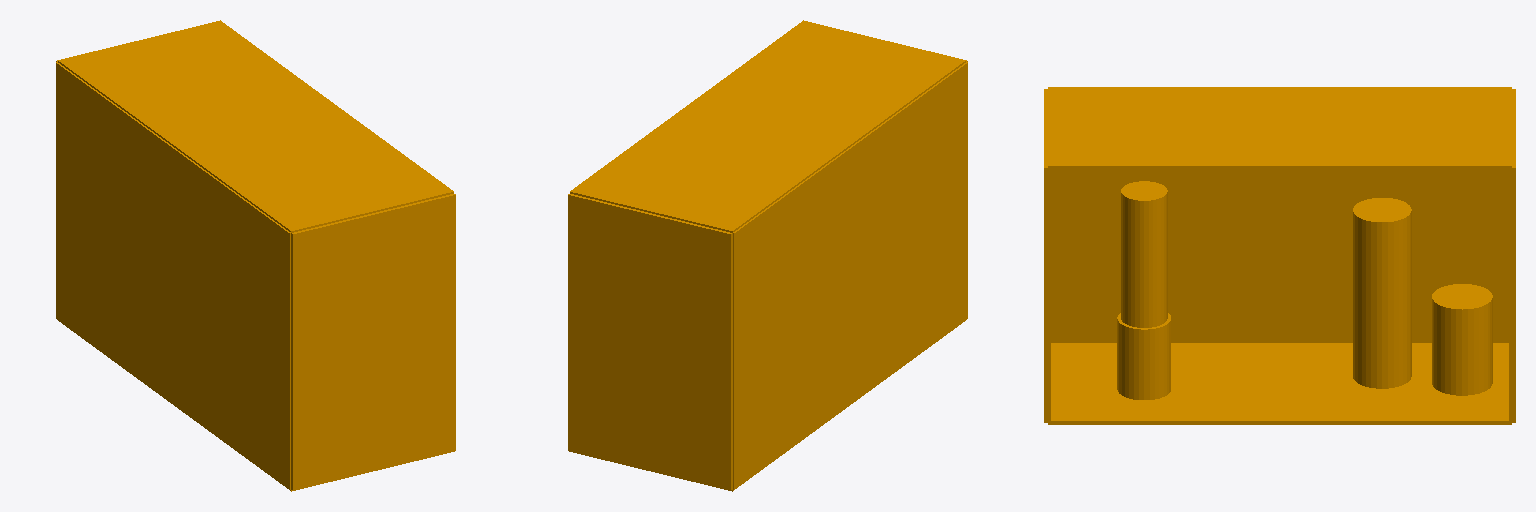
The robot description file, URDF, robot "syn_can_cabinet_309":
<?xml version="1.0" ?>
<robot name="syn_can_cabinet_309">
    <link concave="yes" name="base_link">
        <inertial>
            <origin rpy="0 0 0" xyz="0 0 0"/>
            <mass value="0.0"/>
            <inertia ixx="1e-08" ixy="0" ixz="0" iyy="1e-08" iyz="0" izz="1e-08"/>
        </inertial>
        <visual>
            <origin xyz="0 0 0" rpy="0 0 0" />
            <geometry>
                <mesh filename="syn_can_cabinet_309.obj" scale="1.000000 1.000000 1.000000"/>
            </geometry>         
        </visual>

        <collision concave="yes">
            <origin xyz="0 0 0" rpy="0 0 0"/>
            <geometry>
                <mesh filename="syn_can_cabinet_309.obj" scale="1.000000 1.000000 1.000000"/>
            </geometry>
        </collision>
    </link>
</robot>
    

--- Facts derived from the render (not from the file) ---
Views: 3 orthographic renders of the robot side by side, from view 1: azimuth 30°, elevation 25°; view 2: azimuth 150°, elevation 25°; view 3: azimuth 270°, elevation 25°.
Robot: syn_can_cabinet_309 — 1 links, 0 joints (none); root link base_link; default pose: all joints at 0.
Links seen in each view (by area): view 1: base_link; view 2: base_link; view 3: base_link.
Link boxes in pixels (box(x1,y1,x2,y2)): base_link: box(56, 20, 455, 491); base_link: box(568, 20, 967, 491); base_link: box(1044, 87, 1515, 424).
Bounding box of the posed robot: 0.1889 × 0.4715 × 0.2853 m (x, y, z).
Meshes: 1 distinct files referenced, 1 mesh visuals loaded (1 OBJ).
